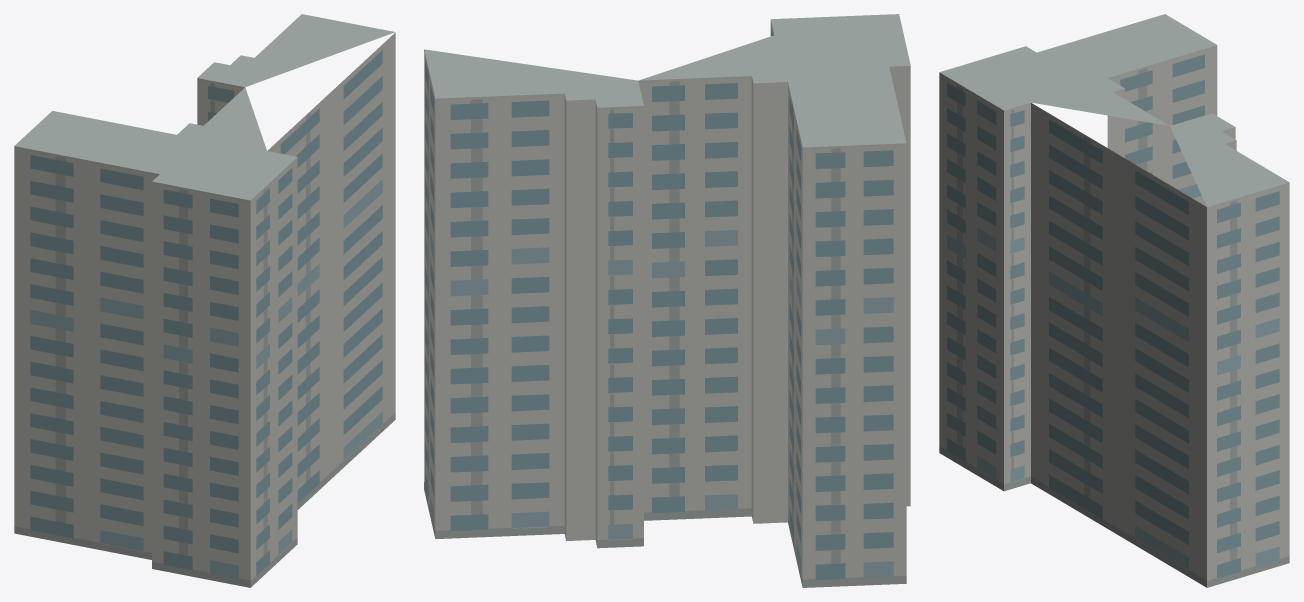
File: residential-670e57ff-90ab-464e-a1c3-44e66167abe0.glb
3 views of the same model, side by side, from view 1: azimuth 30°, elevation 25°; view 2: azimuth 150°, elevation 25°; view 3: azimuth 270°, elevation 25° (orthographic). The views are drawn at different scales.
Parts seen in each view (by area): view 1: residential-670e57ff-90ab-464e-a1c3-44e66167abe0.tmp; view 2: residential-670e57ff-90ab-464e-a1c3-44e66167abe0.tmp; view 3: residential-670e57ff-90ab-464e-a1c3-44e66167abe0.tmp.
Part boxes in pixels (x1=…): residential-670e57ff-90ab-464e-a1c3-44e66167abe0.tmp: x1=14, y1=14, x2=395, y2=587; residential-670e57ff-90ab-464e-a1c3-44e66167abe0.tmp: x1=424, y1=14, x2=910, y2=587; residential-670e57ff-90ab-464e-a1c3-44e66167abe0.tmp: x1=939, y1=14, x2=1289, y2=587.
Size of the model in its own units: 50.08 by 46 by 38.38.
